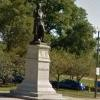Statue: (26, 2, 59, 63)
